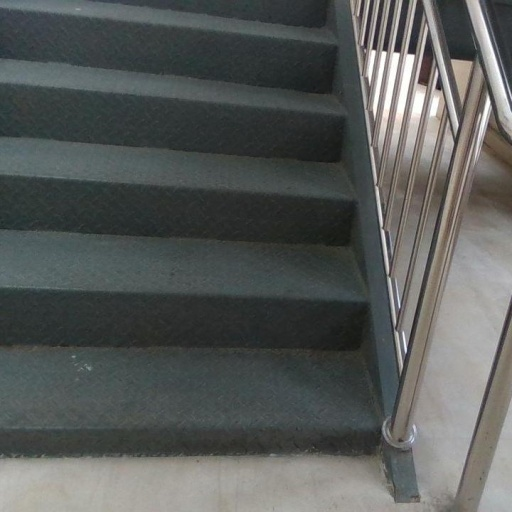Stairs: (0, 0, 380, 454)
